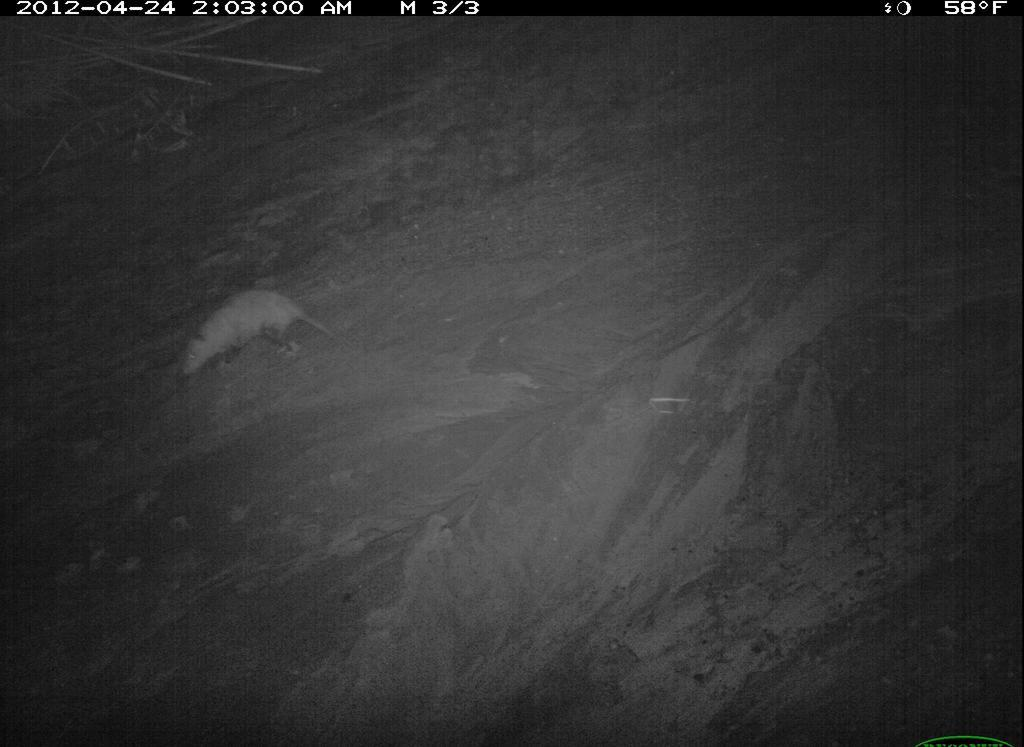opossum: (355, 569, 683, 747)
